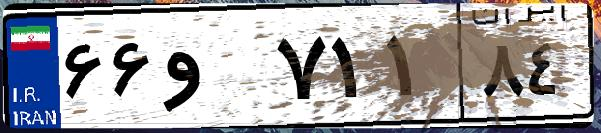1: (385, 28, 445, 110), (330, 28, 385, 110)
4: (525, 38, 570, 115)
6: (57, 26, 110, 100), (110, 28, 158, 98)
7: (270, 28, 330, 110)
8: (475, 38, 525, 113)
و: (158, 20, 270, 120)
